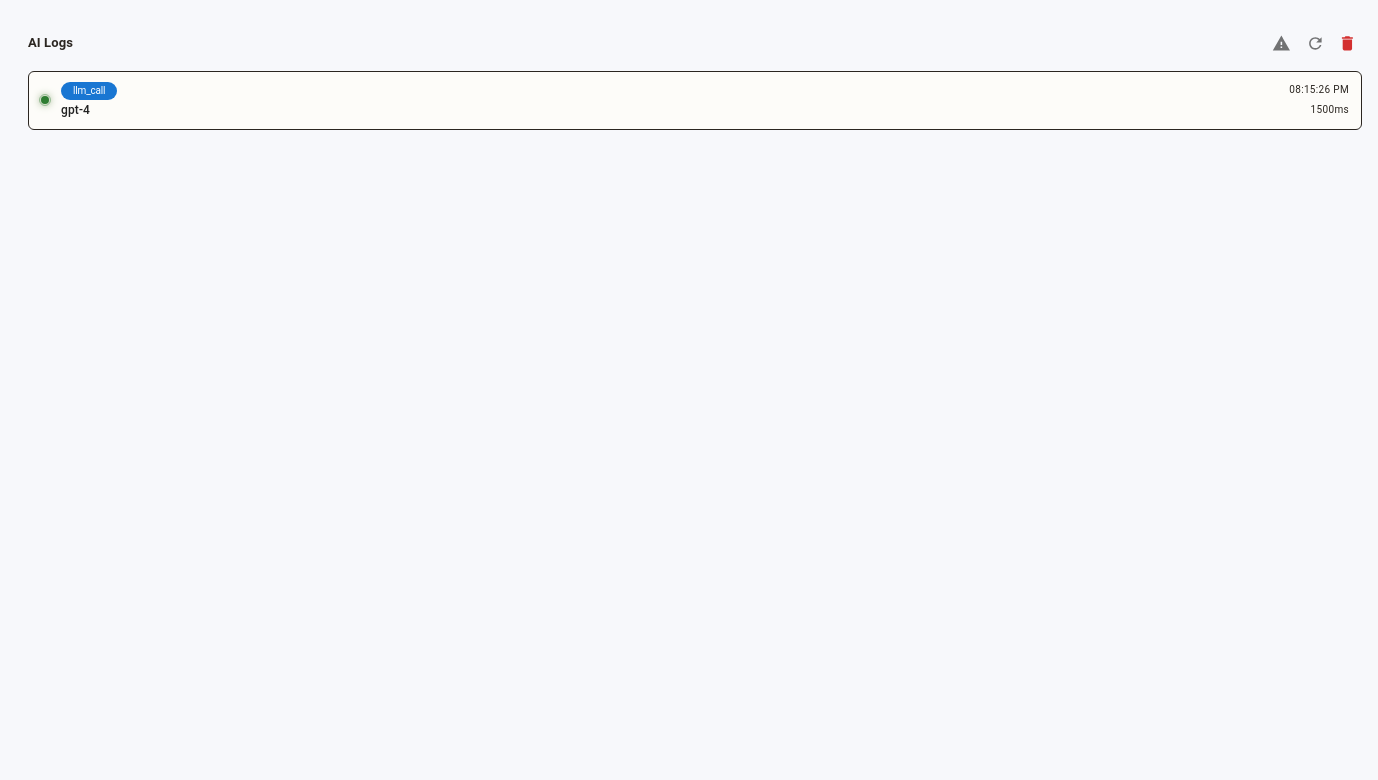
it: AiLogsView › clicking a log entry selects it in the app state
Click the list item with test id "ai-log-row-log-click".
click(695, 100)  # box [28,71,1362,130]
(page scrolled)
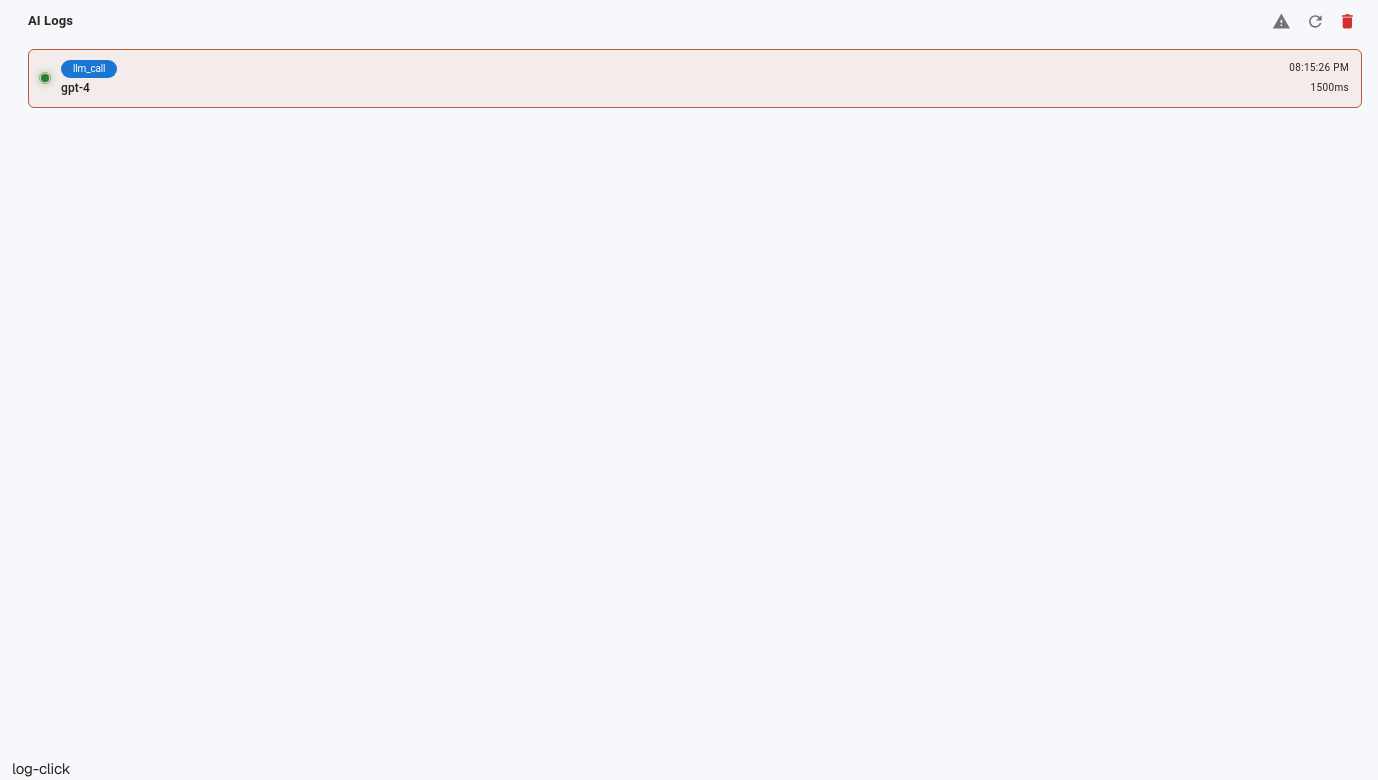
Expected: the text with test id "selected-log-inspector" reads "log-click", [12,759,70,778]
